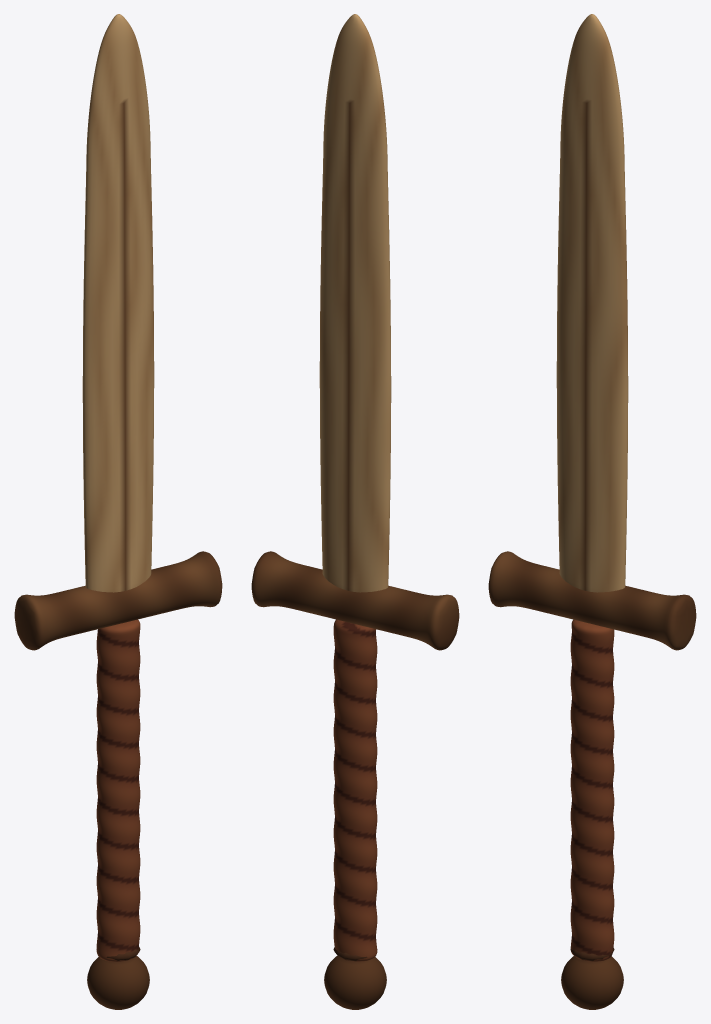
File: SM_WoodSword.fbx
3 views of the same model, side by side, from view 1: azimuth 30°, elevation 25°; view 2: azimuth 150°, elevation 25°; view 3: azimuth 330°, elevation 25° (orthographic).
Parts seen in each view (by area): view 1: SM_WoodSword; view 2: SM_WoodSword; view 3: SM_WoodSword.
Part boxes in pixels (bbox=[...]): SM_WoodSword: bbox=[14, 14, 222, 1009]; SM_WoodSword: bbox=[251, 14, 459, 1009]; SM_WoodSword: bbox=[488, 14, 696, 1009].
Bounding box in the file's own units: 0.1887 × 0.9416 × 0.054.
